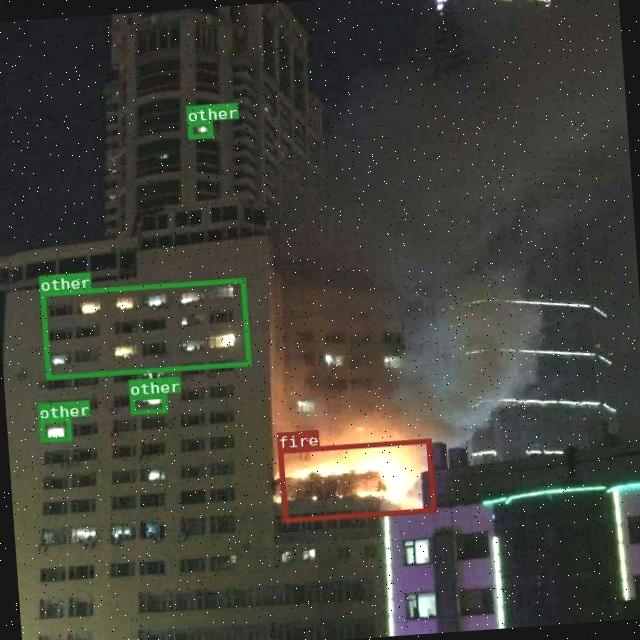fire: (277, 438, 434, 520)
